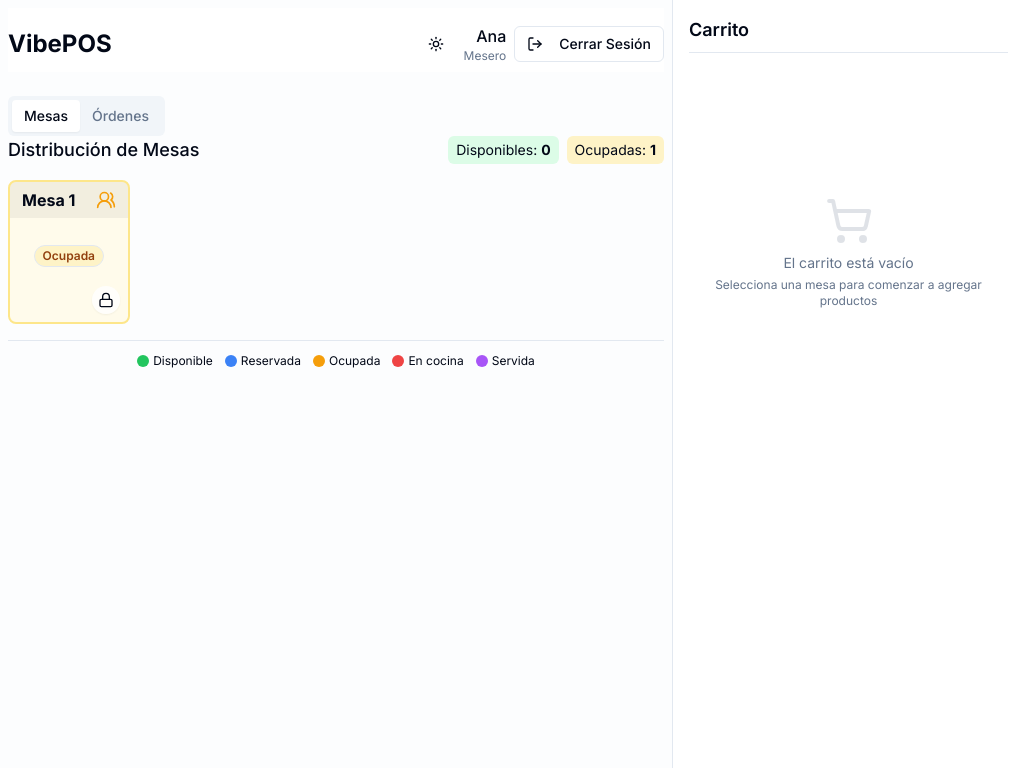
it: WaiterView — stock cache after sending to the kitchen (T6 advisory) › invalidates the stock queries after a send and reflects the new stock on the next render
This screenshot has width=1024, height=768.
Later steps or results of the test are not shown.
# The menu of the selected table is on screen and the dish is available.
Click the text "Mesa 1": coordinates (49, 200) [22,188,75,212]
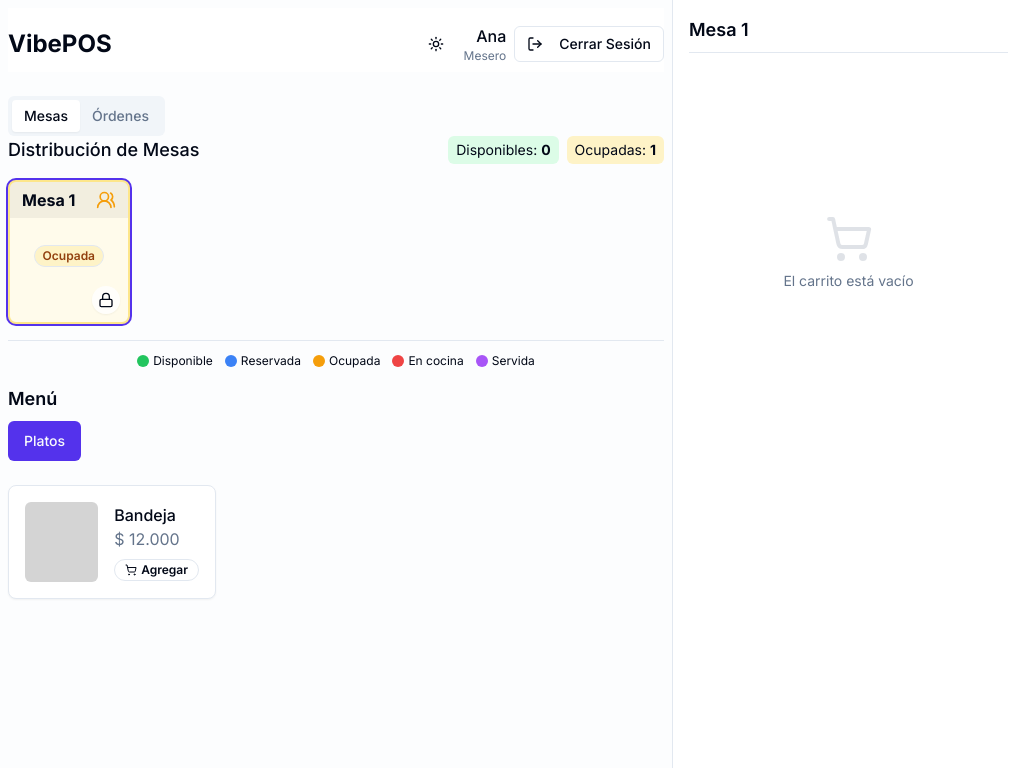
Expected: the heading "Bandeja" is shown, [114,504,176,524]
